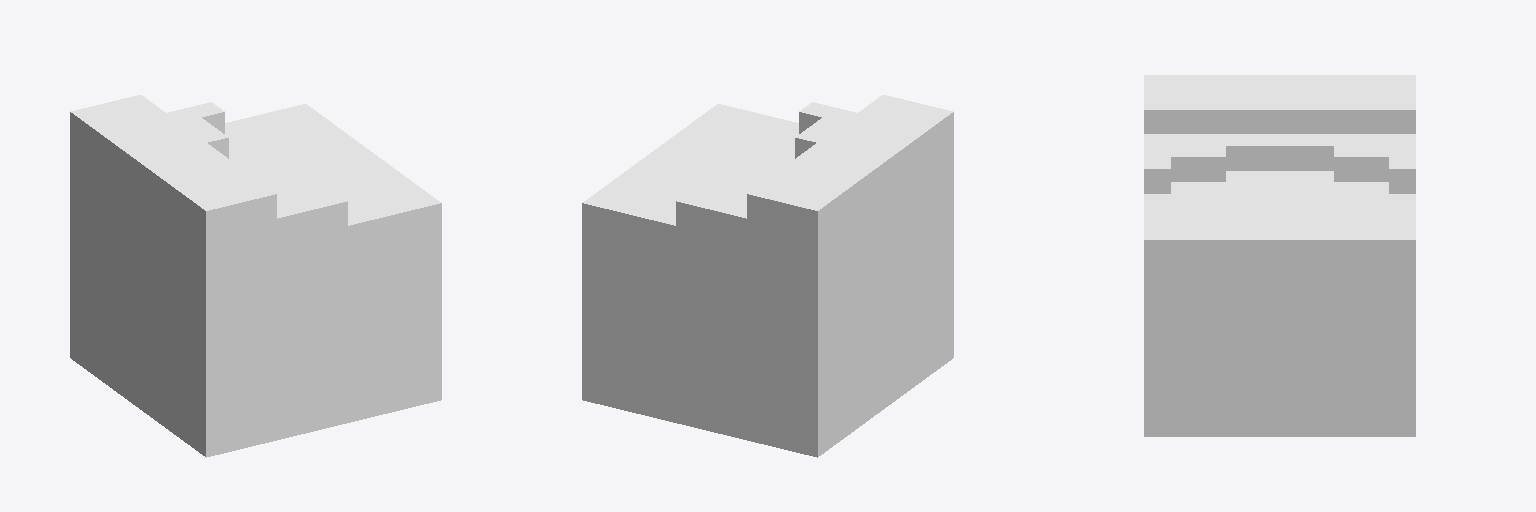
Rendered from Lehm_Rand-0.3.obj.
3 renders of one model, left to right at view 1: azimuth 30°, elevation 25°; view 2: azimuth 150°, elevation 25°; view 3: azimuth 270°, elevation 25°, orthographic.
Parts seen in each view (by area): view 1: object 1; view 2: object 1; view 3: object 1.
Part boxes in pixels (x1,y1,x2,y2): object 1: (70, 95, 441, 457); object 1: (582, 95, 953, 457); object 1: (1144, 75, 1415, 436).
Bounding box in the file's own units: 1 × 1 × 1.